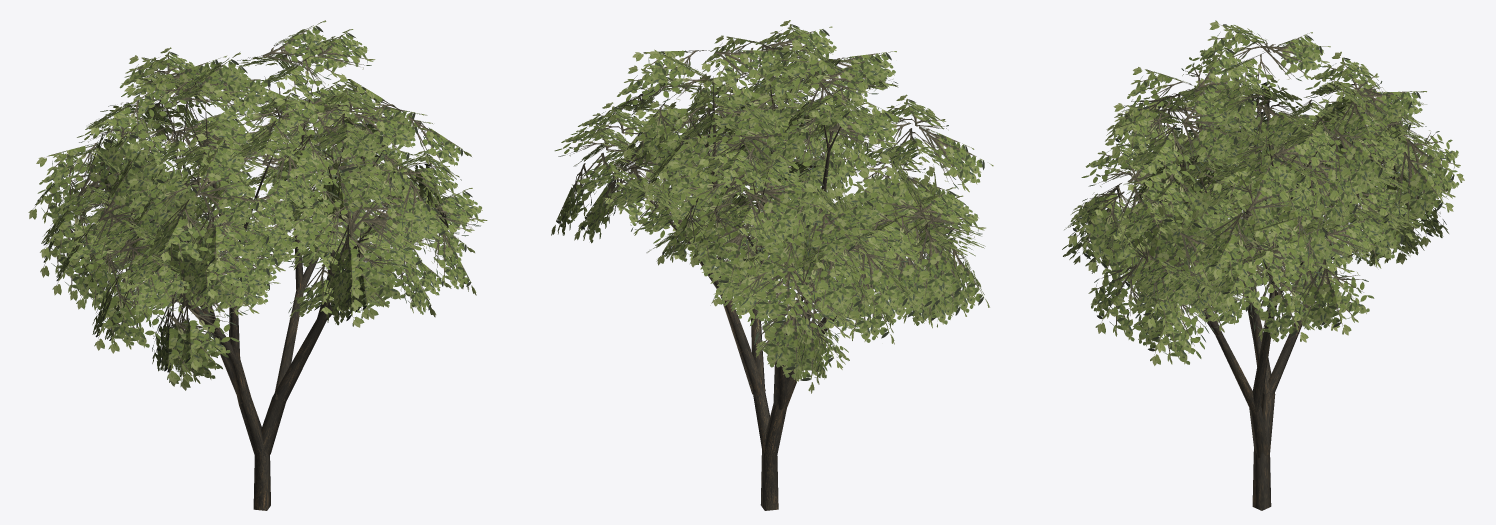
File: autumnTree.glb
3 views of the same model, side by side, from view 1: azimuth 30°, elevation 25°; view 2: azimuth 150°, elevation 25°; view 3: azimuth 270°, elevation 25° (orthographic). The views are drawn at different scales.
Parts seen in each view (by area): view 1: 矮树; view 2: 矮树; view 3: 矮树.
Boxes of the visible parts, <box> form: 矮树: <box>28,20,487,510</box>; 矮树: <box>551,20,993,510</box>; 矮树: <box>1062,20,1464,510</box>.
Size of the model in its own units: 2.33 by 2.44 by 2.12.
2 materials, 2 textured.
